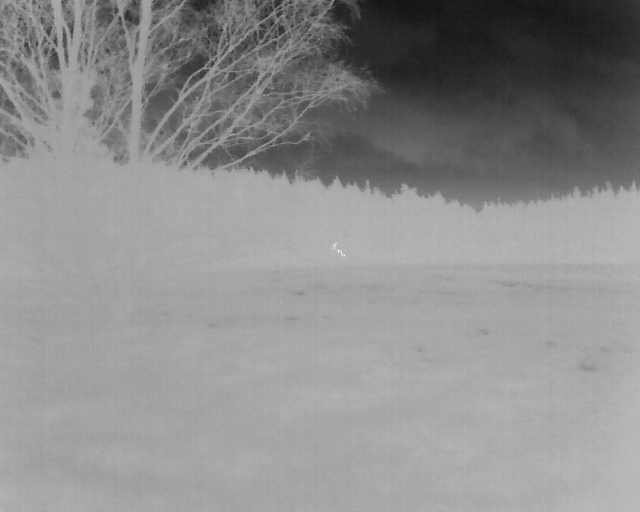Deer: (337, 249, 343, 253), (331, 246, 336, 250), (340, 253, 346, 256), (333, 242, 337, 246)
